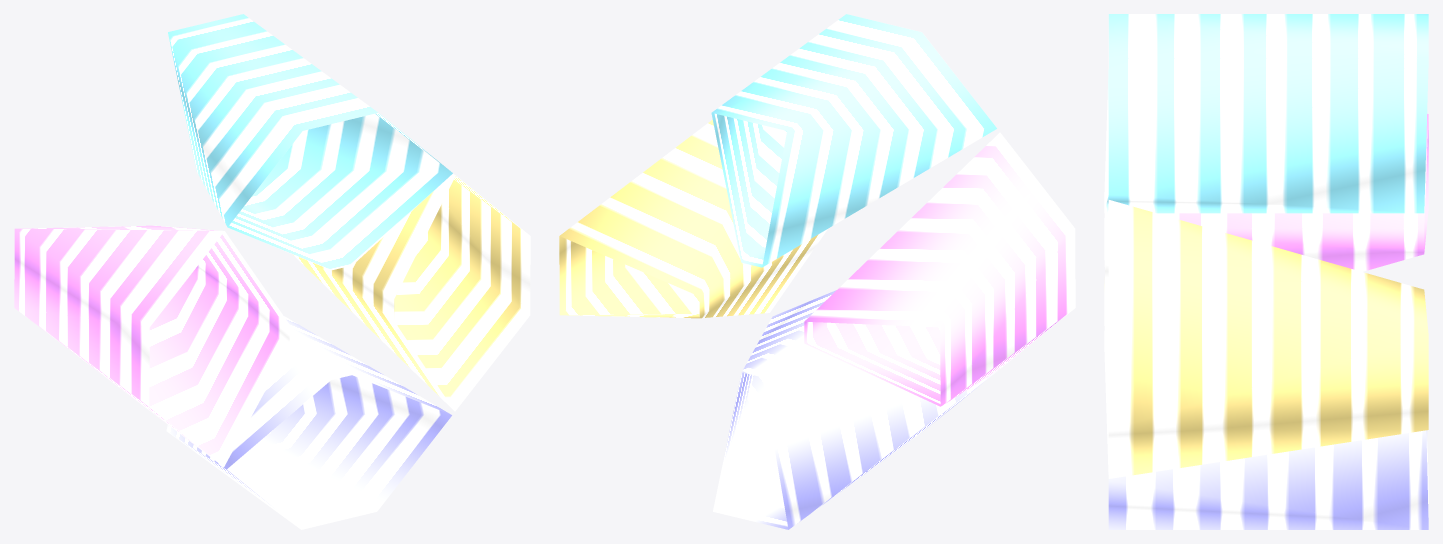
The model's file is kaleidoscopeWheel.glb.
3 views of the same model, side by side, from view 1: azimuth 30°, elevation 25°; view 2: azimuth 150°, elevation 25°; view 3: azimuth 270°, elevation 25° (orthographic). The views are drawn at different scales.
Visible parts, largest first — view 1: KaleidoscopeWheel; view 2: KaleidoscopeWheel; view 3: KaleidoscopeWheel.
Boxes of the visible parts, bbox=[...] form: KaleidoscopeWheel: bbox=[14, 14, 530, 529]; KaleidoscopeWheel: bbox=[559, 14, 1075, 529]; KaleidoscopeWheel: bbox=[1104, 14, 1428, 529].
Bounding box in the file's own units: 13.13 × 13.13 × 8.17.
Materials: 1 (1 with a texture image).
